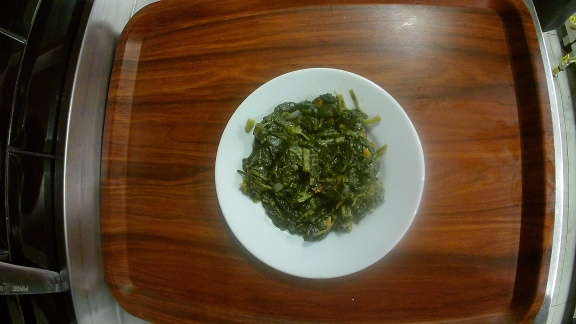ispanak: (214, 67, 427, 279)
